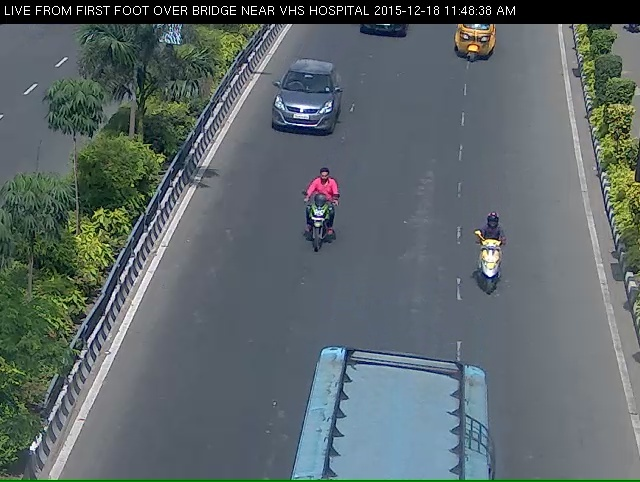Auto: (450, 24, 501, 72)
Bus: (293, 360, 490, 478)
Car: (264, 65, 334, 155), (352, 23, 408, 47)
Person: (289, 185, 332, 273), (472, 231, 511, 318)
